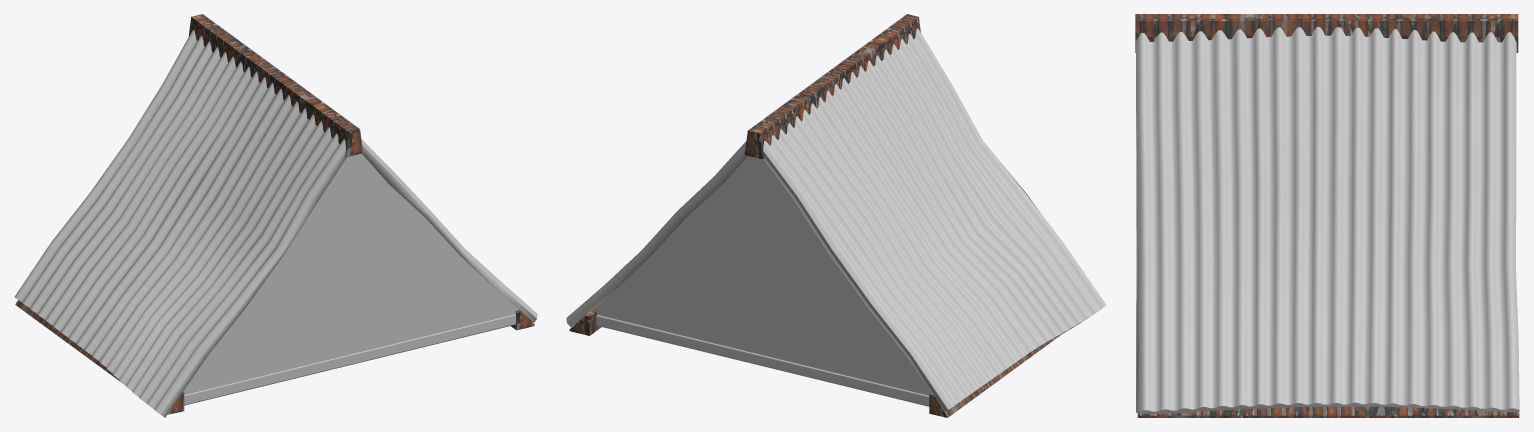
File: SM_HouseRoof05.FBX
The picture shows the model from 3 angles, left to right: view 1: azimuth 30°, elevation 25°; view 2: azimuth 150°, elevation 25°; view 3: azimuth 270°, elevation 25°; orthographic projection. The views are drawn at different scales.
Visible parts, largest first — view 1: SM_HouseRoof05; view 2: SM_HouseRoof05; view 3: SM_HouseRoof05.
Boxes of the visible parts, x1=… form: SM_HouseRoof05: x1=14, y1=14, x2=537, y2=417; SM_HouseRoof05: x1=566, y1=14, x2=1106, y2=417; SM_HouseRoof05: x1=1135, y1=14, x2=1519, y2=417.
Size of the model in its own units: 523 by 374 by 318.
